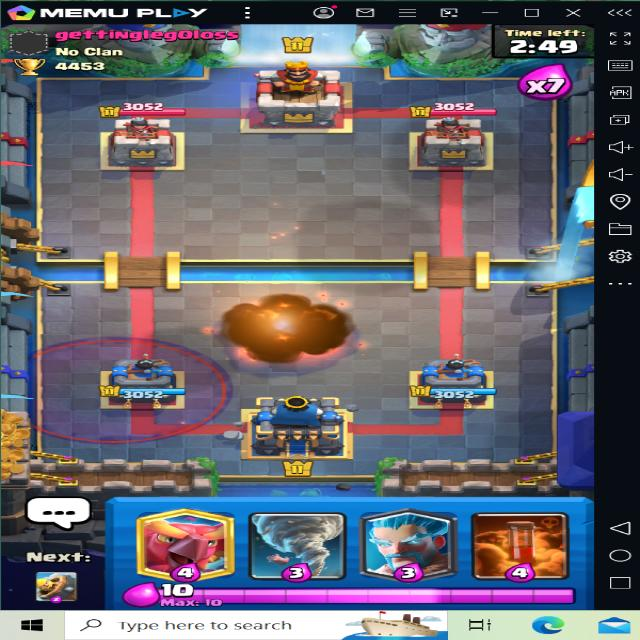graveyard: (13, 327, 230, 445)
